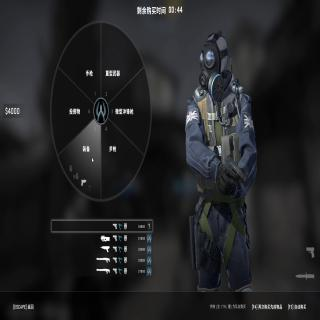CT-Head: (198, 30, 229, 96)
